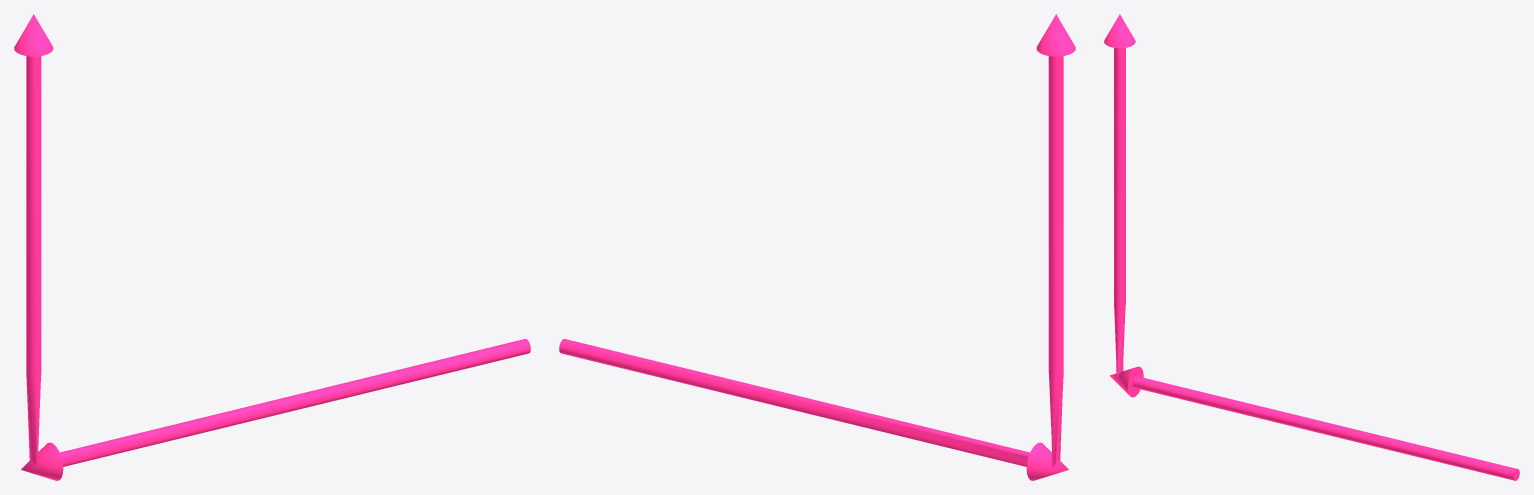
The model's file is screw_jack_flow.glb.
3 views of the same model, side by side, from view 1: azimuth 30°, elevation 25°; view 2: azimuth 150°, elevation 25°; view 3: azimuth 330°, elevation 25° (orthographic). The views are drawn at different scales.
Visible parts, largest first — view 1: power; view 2: power; view 3: power.
Boxes of the visible parts, bbox=[...] form: power: bbox=[14, 14, 530, 480]; power: bbox=[559, 14, 1075, 480]; power: bbox=[1104, 14, 1519, 480].
Bounding box in the file's own units: 0.6208 × 0.5468 × 0.0416.
